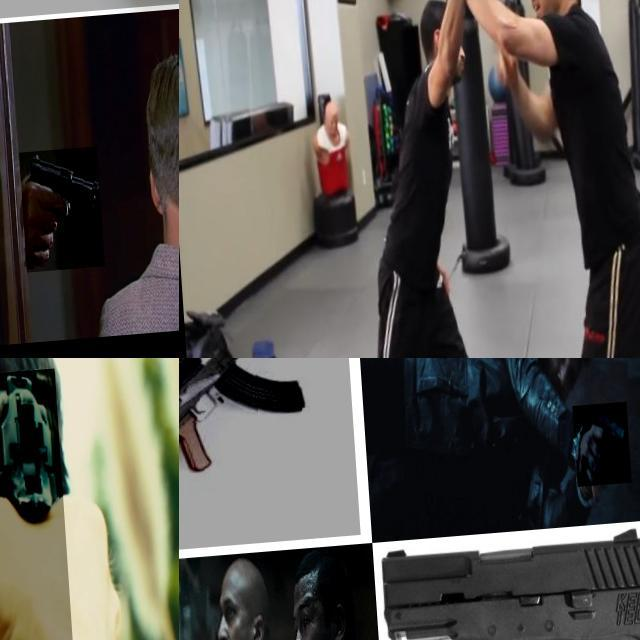-: (437, 0, 515, 38)
gun-knife-thesis - v11 Yolov5 augmented: (0, 27, 171, 358), (179, 358, 356, 559), (371, 532, 640, 640), (0, 0, 179, 147), (0, 0, 165, 148), (0, 377, 77, 640), (12, 154, 96, 280), (570, 412, 628, 496)
